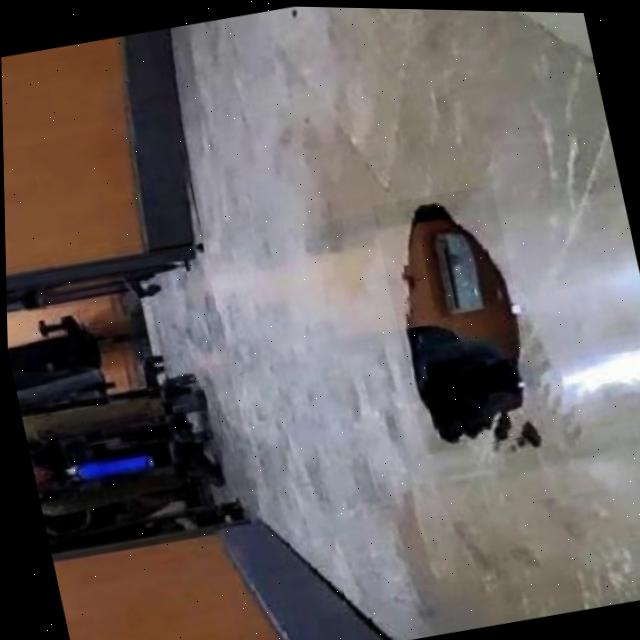spillage: (403, 196, 534, 438)
